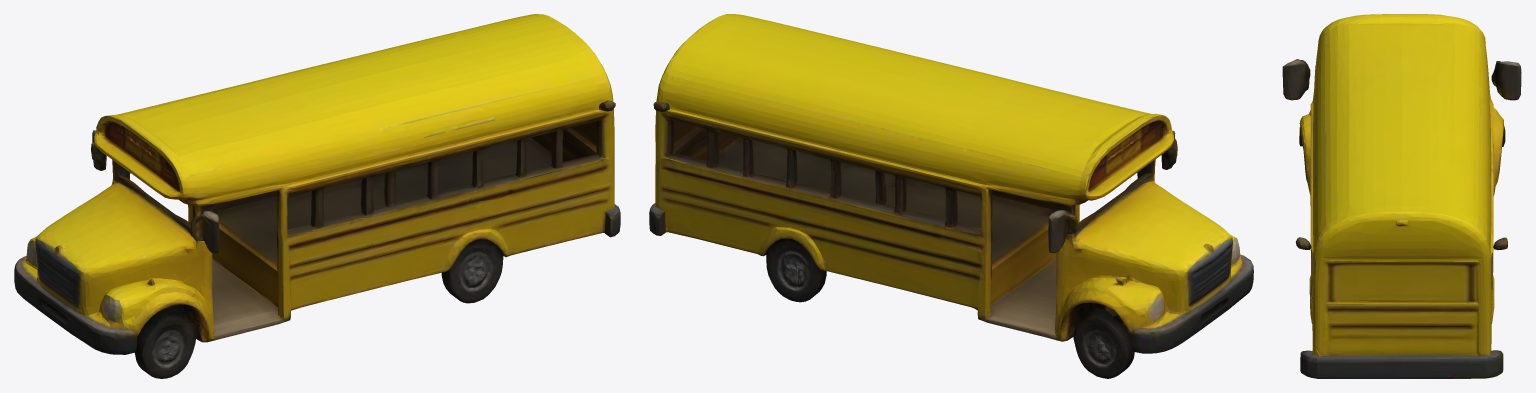
File: schoolbus.glb
The picture shows the model from 3 angles, left to right: view 1: azimuth 30°, elevation 25°; view 2: azimuth 150°, elevation 25°; view 3: azimuth 270°, elevation 25°; orthographic projection. The views are drawn at different scales.
Visible parts, largest first — view 1: world; view 2: world; view 3: world.
Boxes of the visible parts, <box> form: world: <box>14,14,620,378</box>; world: <box>649,14,1253,378</box>; world: <box>1282,14,1521,378</box>.
Size of the model in its own units: 0.9935 by 0.3842 by 0.4089.
1 material, 1 textured.
